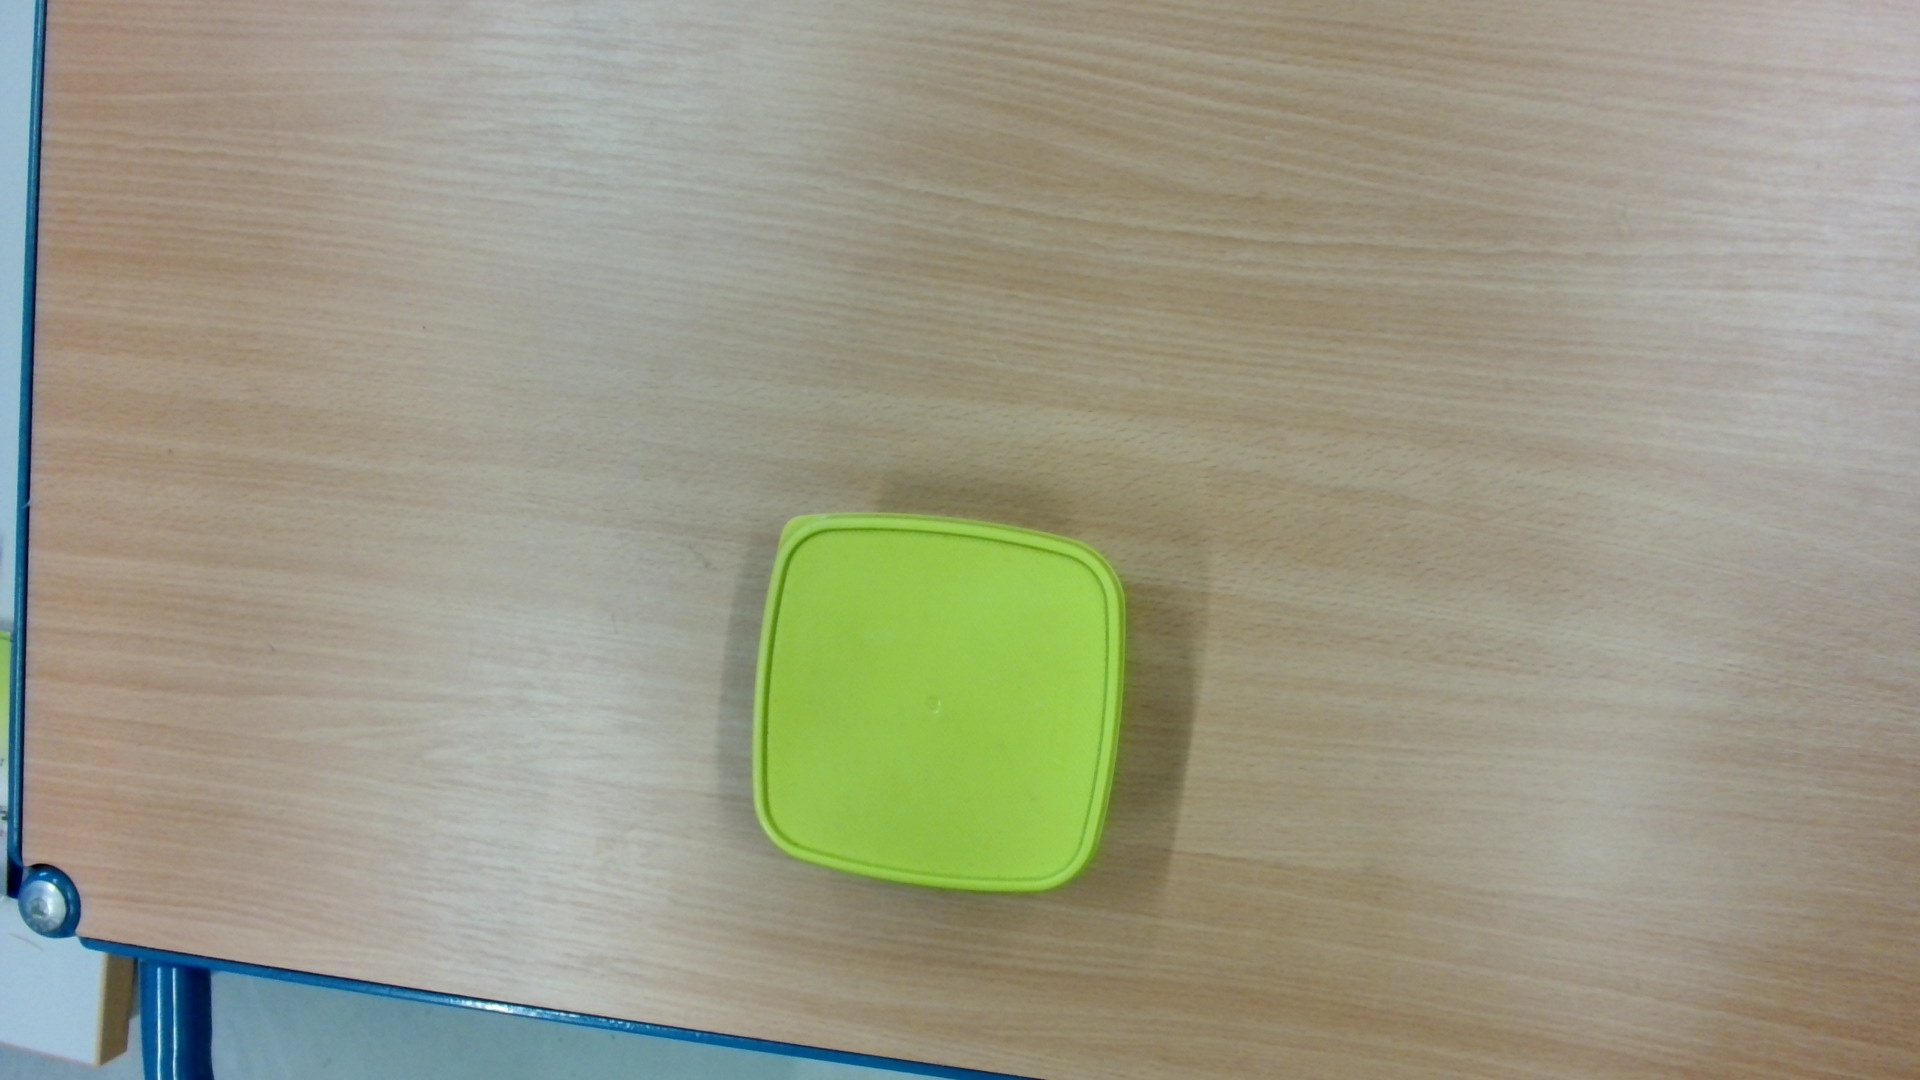Box: (737, 502, 1137, 907)
